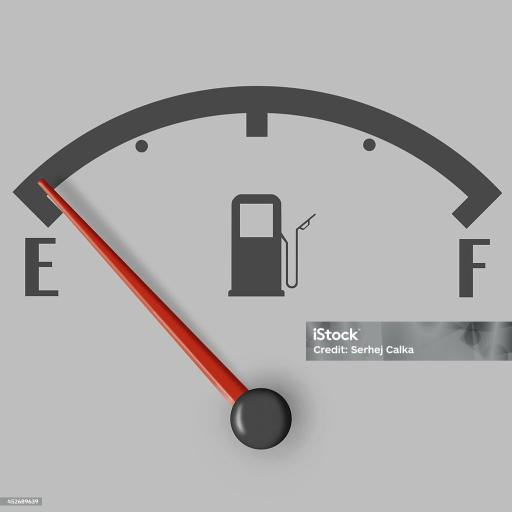empty: (16, 230, 67, 304)
fuel_icon: (226, 188, 320, 299)
full: (454, 236, 495, 300)
guage_area: (12, 56, 506, 451)
needle_center: (226, 386, 294, 452)
needle_tip: (31, 173, 63, 202)
